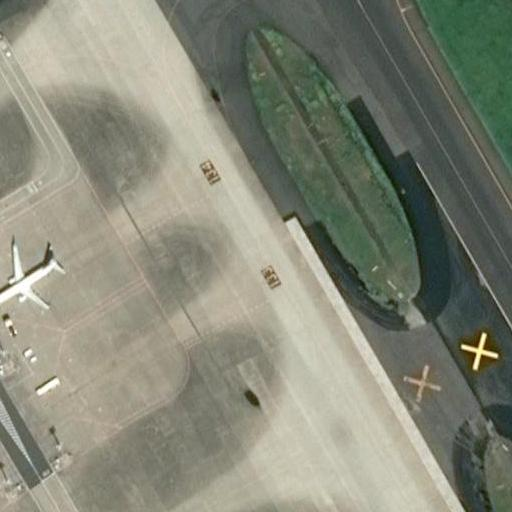Aircraft: (0, 244, 57, 313)
